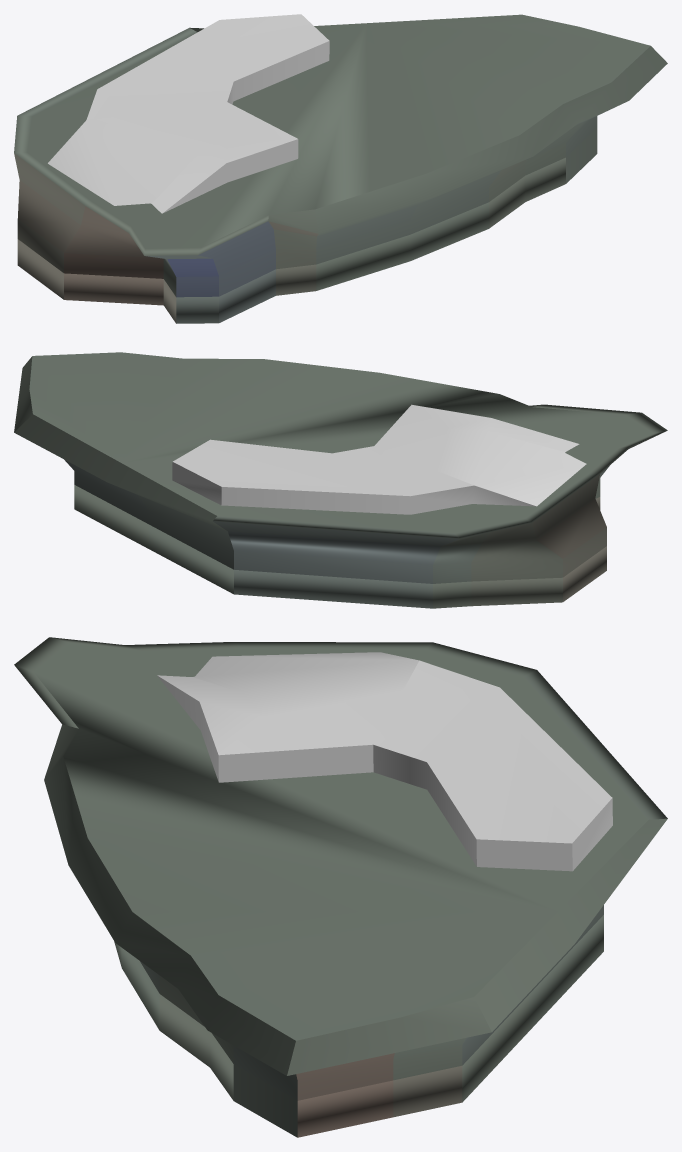
Rendered from island.fbx.
The picture shows the model from 3 angles, top to bottom: view 1: azimuth 30°, elevation 25°; view 2: azimuth 150°, elevation 25°; view 3: azimuth 270°, elevation 25°; orthographic projection. The views are drawn at different scales.
Visible parts, largest first — view 1: island ledge bottom, island ledge top; view 2: island ledge bottom, island ledge top; view 3: island ledge bottom, island ledge top.
Part boxes in pixels (<box>): island ledge bottom: <box>14,14,667,323</box>; island ledge top: <box>48,14,329,213</box>; island ledge bottom: <box>14,352,667,608</box>; island ledge top: <box>172,404,586,514</box>; island ledge bottom: <box>14,637,667,1137</box>; island ledge top: <box>157,652,612,871</box>.
Bounding box in the file's own units: 4855 × 870 × 3210.
